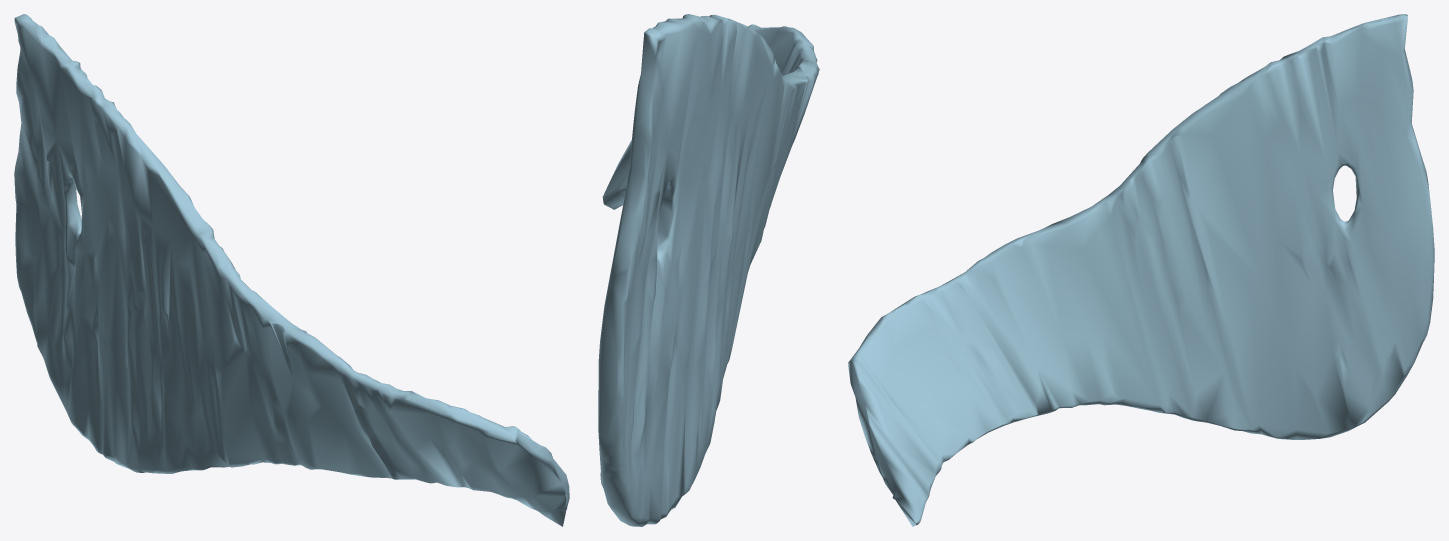
The model's file is articulacoes-quadrangular-membrane-r.glb.
3 views of the same model, side by side, from view 1: azimuth 30°, elevation 25°; view 2: azimuth 150°, elevation 25°; view 3: azimuth 270°, elevation 25° (orthographic). The views are drawn at different scales.
Parts seen in each view (by area): view 1: Quadrangular membrane.r; view 2: Quadrangular membrane.r; view 3: Quadrangular membrane.r.
Boxes of the visible parts, <box> form: Quadrangular membrane.r: <box>14,14,569,526</box>; Quadrangular membrane.r: <box>598,14,819,526</box>; Quadrangular membrane.r: <box>848,14,1434,526</box>.
Size of the model in its own units: 0.016 by 0.0216 by 0.0285.
